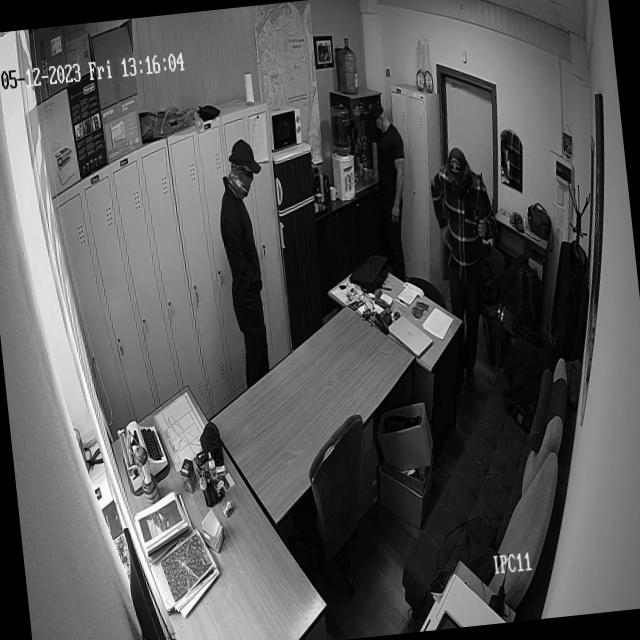gun: (470, 168, 498, 291)
person: (204, 130, 282, 318), (365, 100, 433, 268)
person with a gun: (429, 141, 516, 402)
